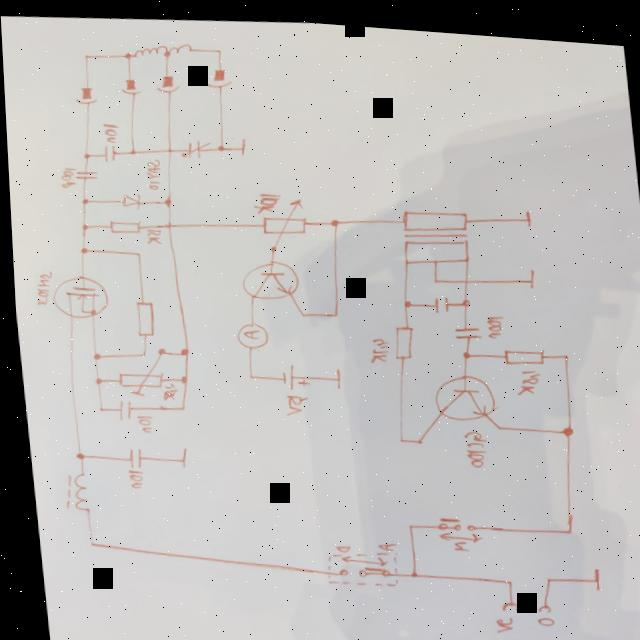capacitor: (174, 132, 210, 158), (447, 316, 479, 335), (119, 444, 139, 466), (425, 288, 447, 308), (110, 397, 128, 420), (97, 142, 115, 162), (70, 167, 96, 179)
crossover: (456, 270, 467, 278), (161, 218, 169, 227), (163, 144, 171, 151)
diode: (116, 190, 140, 210)
ground: (325, 361, 339, 385), (171, 443, 185, 466), (520, 259, 534, 281), (585, 558, 595, 582), (520, 201, 530, 221), (236, 133, 246, 152)
inductor: (55, 470, 89, 515), (130, 39, 167, 57), (164, 39, 192, 54)
junction: (555, 416, 570, 429), (118, 47, 134, 59), (324, 211, 338, 223), (173, 343, 186, 355), (159, 193, 171, 206), (454, 342, 468, 353), (455, 290, 467, 301), (397, 292, 409, 303), (68, 449, 80, 460), (74, 244, 86, 254), (87, 349, 97, 360), (75, 195, 86, 205), (536, 566, 547, 576), (557, 518, 568, 528), (213, 140, 223, 150), (173, 372, 183, 382), (78, 149, 88, 159), (76, 220, 86, 230), (88, 374, 98, 384), (212, 42, 222, 52), (80, 537, 90, 547), (79, 50, 89, 60), (401, 564, 411, 573), (408, 430, 418, 439), (325, 305, 335, 314), (556, 343, 566, 352), (488, 417, 499, 425), (161, 47, 169, 56), (294, 306, 303, 313), (134, 349, 142, 356), (241, 369, 249, 376), (400, 517, 408, 524), (91, 404, 99, 411), (130, 248, 139, 254), (126, 147, 134, 153), (498, 572, 506, 578), (391, 431, 399, 437), (173, 403, 181, 409), (427, 271, 435, 276)
resistor: (254, 188, 309, 250), (108, 341, 167, 398), (385, 317, 413, 355), (127, 297, 153, 336), (496, 338, 541, 360), (104, 216, 139, 234)
source: (274, 355, 306, 387)
switch: (317, 540, 393, 586), (426, 503, 478, 538)
terminal: (493, 592, 513, 605), (528, 595, 545, 607)
text: (455, 422, 484, 463), (509, 358, 538, 389), (248, 184, 280, 212), (27, 269, 50, 307), (140, 155, 161, 189), (363, 331, 387, 359), (278, 388, 304, 413), (480, 305, 500, 331), (55, 165, 75, 189), (99, 119, 117, 143), (119, 466, 139, 487), (129, 412, 149, 433), (139, 225, 161, 244), (486, 608, 508, 627), (155, 380, 173, 399), (370, 534, 391, 548), (528, 606, 547, 619), (444, 534, 464, 546), (326, 537, 345, 548)
transformer: (394, 200, 469, 263)
transistor: (427, 364, 495, 417), (233, 253, 299, 300), (45, 271, 107, 321)
